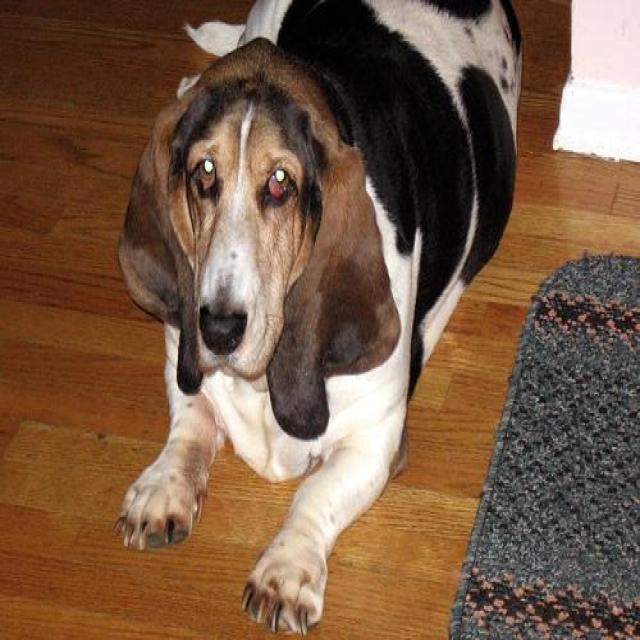basset: (116, 0, 524, 637)
